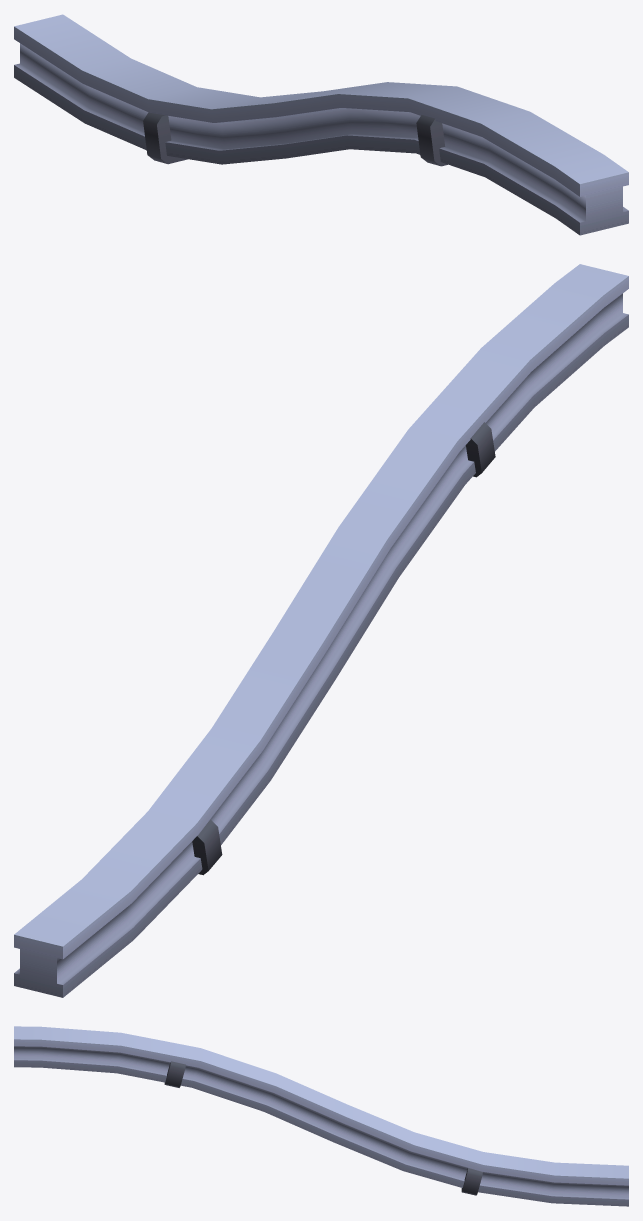
The model's file is coaster-monorail-straight-hill-complete.glb.
3 renders of one model, top to bottom at view 1: azimuth 30°, elevation 25°; view 2: azimuth 150°, elevation 25°; view 3: azimuth 270°, elevation 25°, orthographic. The views are drawn at different scales.
Visible parts, largest first — view 1: coaster-monorail-straight-hill-complete; view 2: coaster-monorail-straight-hill-complete; view 3: coaster-monorail-straight-hill-complete.
Boxes of the visible parts, bbox=[...] form: coaster-monorail-straight-hill-complete: bbox=[14, 14, 628, 235]; coaster-monorail-straight-hill-complete: bbox=[14, 264, 628, 997]; coaster-monorail-straight-hill-complete: bbox=[14, 1026, 628, 1206].
Size of the model in its own units: 0.25 by 1.2 by 4.
Materials: 1 (1 with a texture image).
